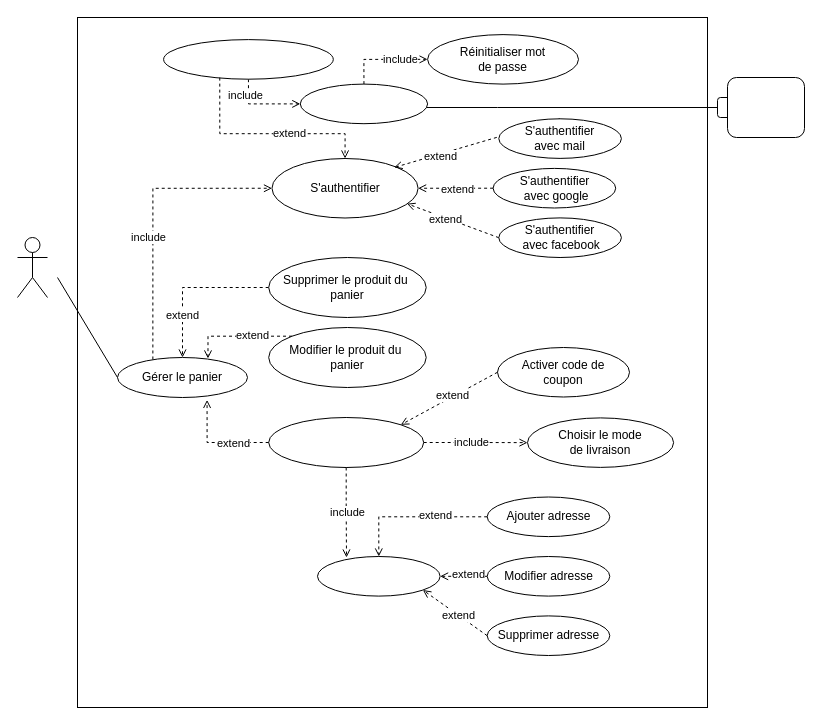
The diagram is 822 pixels wide and 725 high, and some of its shapes have lost their labels. Here are the shapes that lost their labels. From the top down, the centre of each, then its label:
the point at 248,59: Oublier le mot de passe
the point at 363,103: Email OTP (reset)
the point at 765,107: Email service
the point at 32,267: Client
the point at 346,442: Passer une commande
the point at 378,576: Choisir l'adresse
